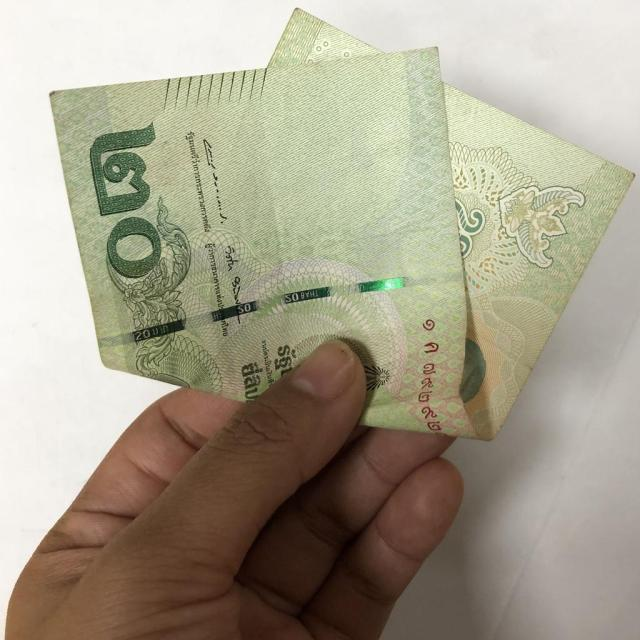THAI20: (50, 9, 632, 439)
